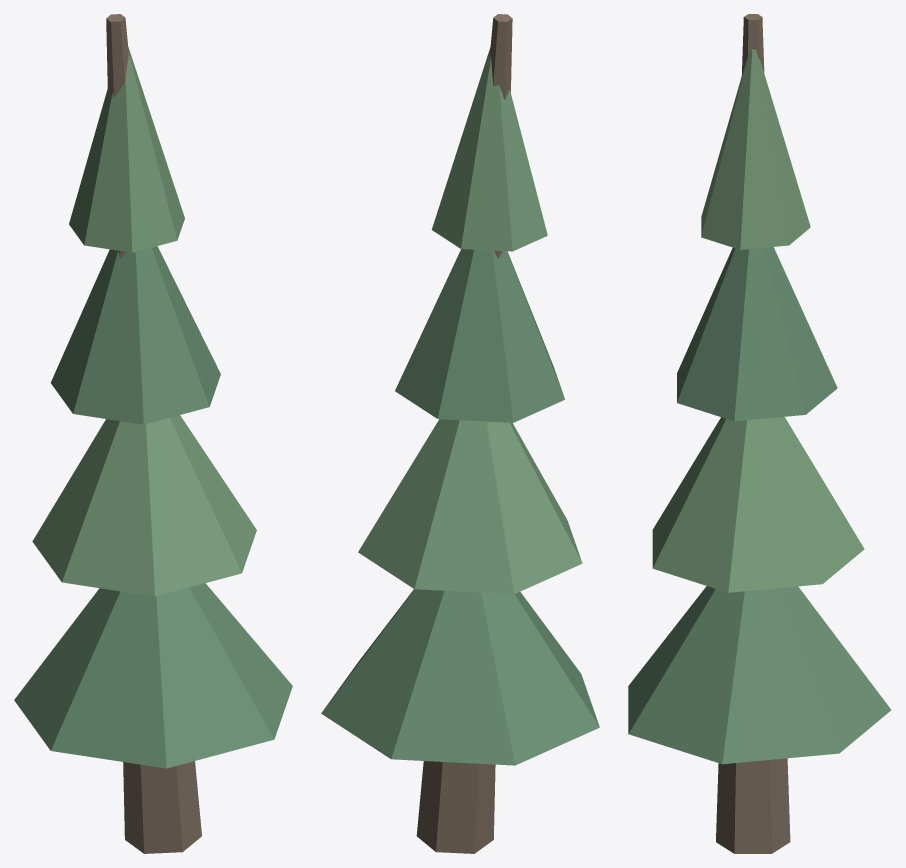
Rendered from pine_v36.glb.
3 renders of one model, left to right at view 1: azimuth 30°, elevation 25°; view 2: azimuth 150°, elevation 25°; view 3: azimuth 270°, elevation 25°, orthographic. The views are drawn at different scales.
Parts seen in each view (by area): view 1: lod0; view 2: lod0; view 3: lod0.
Boxes of the visible parts, box(x1,y1,x2,y2) form: lod0: box(14, 14, 292, 853); lod0: box(321, 14, 599, 853); lod0: box(628, 14, 891, 853).
Size of what is drawn, in the model's own units: 1.45 by 4.76 by 1.41.
